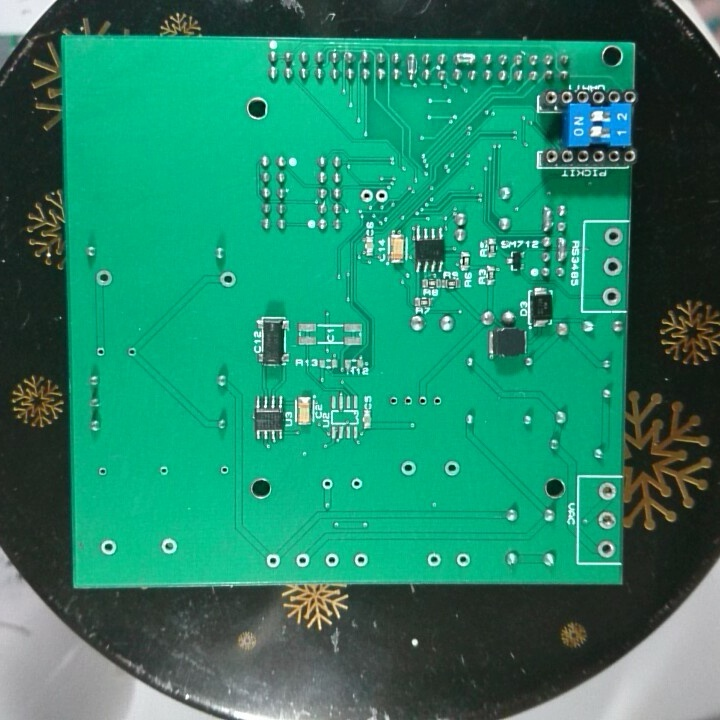F: (600, 256, 624, 280), (602, 224, 625, 248), (397, 457, 420, 480), (600, 286, 623, 308), (597, 480, 619, 503), (596, 509, 617, 532), (216, 269, 238, 290), (594, 540, 615, 561), (97, 537, 119, 557), (94, 267, 114, 289), (159, 535, 178, 558), (442, 458, 462, 478), (453, 550, 472, 571), (425, 549, 443, 570), (352, 550, 370, 570), (357, 186, 374, 206), (323, 550, 340, 570), (264, 552, 282, 570), (294, 552, 311, 569), (318, 477, 336, 493), (348, 475, 365, 491), (401, 392, 417, 408), (93, 343, 108, 360), (374, 187, 388, 205), (94, 465, 110, 480), (157, 463, 171, 480), (125, 343, 139, 360), (429, 394, 444, 409), (416, 391, 428, 409), (386, 393, 401, 407), (217, 463, 231, 477)
P: (540, 204, 553, 235), (405, 52, 417, 83), (555, 236, 568, 263), (453, 50, 472, 65)
